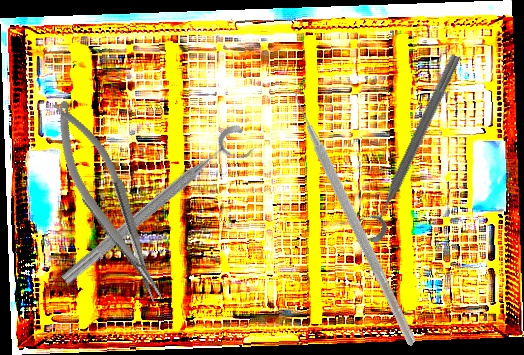Chopper: (213, 74, 505, 347)
Fixation Ring: (56, 120, 259, 300), (349, 46, 467, 246)
Needle Holder: (40, 91, 174, 314)
